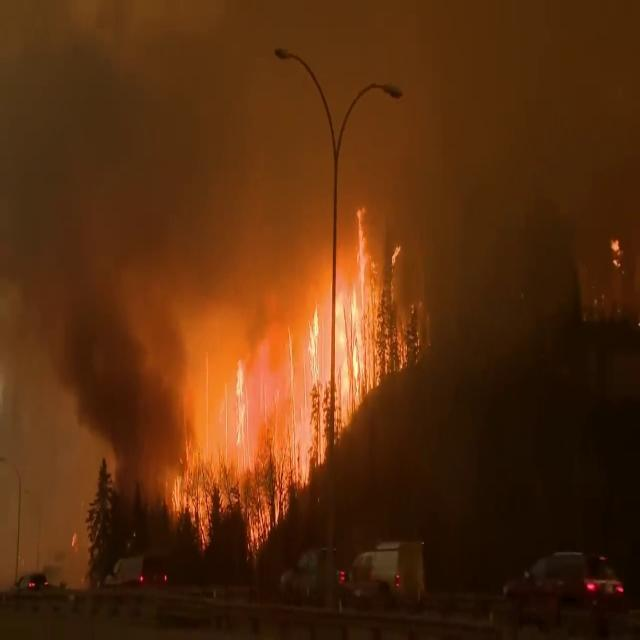Fire: (207, 284, 338, 530), (296, 195, 420, 422)
Smoke: (216, 0, 617, 298), (1, 4, 230, 449)
